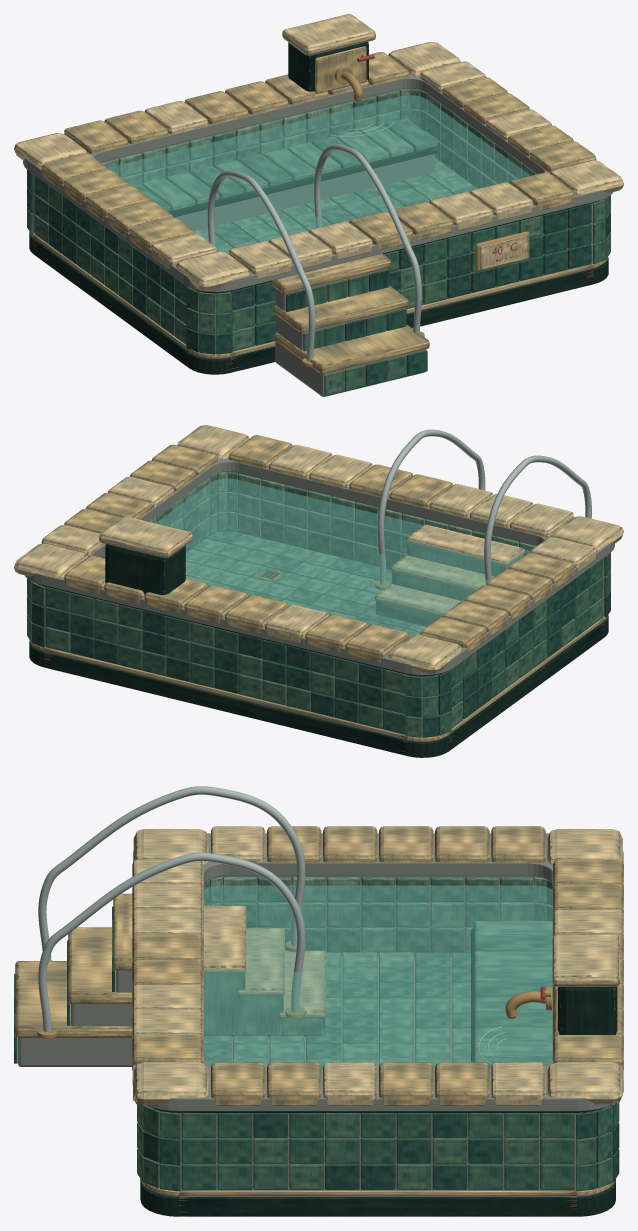
Rendered from Bath_01_Painterly.glb.
3 renders of one model, top to bottom at view 1: azimuth 30°, elevation 25°; view 2: azimuth 150°, elevation 25°; view 3: azimuth 270°, elevation 25°, orthographic. The views are drawn at different scales.
Visible parts, largest first — view 1: SM_Bath_01_Painterly_Body, SM_Bath_01_Painterly_Water, SM_Bath_01_Painterly_Hardware, SM_Bath_01_Painterly_Details; view 2: SM_Bath_01_Painterly_Body, SM_Bath_01_Painterly_Water, SM_Bath_01_Painterly_Hardware; view 3: SM_Bath_01_Painterly_Body, SM_Bath_01_Painterly_Water, SM_Bath_01_Painterly_Hardware.
Boxes of the visible parts, left/top/right/bottom form: SM_Bath_01_Painterly_Body: left=14, top=14, right=623, bottom=396; SM_Bath_01_Painterly_Water: left=107, top=95, right=530, bottom=252; SM_Bath_01_Painterly_Hardware: left=207, top=53, right=424, bottom=366; SM_Bath_01_Painterly_Details: left=475, top=231, right=529, bottom=271; SM_Bath_01_Painterly_Body: left=14, top=425, right=623, bottom=757; SM_Bath_01_Painterly_Water: left=156, top=478, right=530, bottom=635; SM_Bath_01_Painterly_Hardware: left=375, top=429, right=591, bottom=589; SM_Bath_01_Painterly_Body: left=14, top=826, right=623, bottom=1216; SM_Bath_01_Painterly_Water: left=204, top=885, right=552, bottom=1068; SM_Bath_01_Painterly_Hardware: left=37, top=786, right=551, bottom=1038.
Bounding box in the file's own units: 4.57 × 1.81 × 4.43.
Materials: 18 (11 with a texture image).
